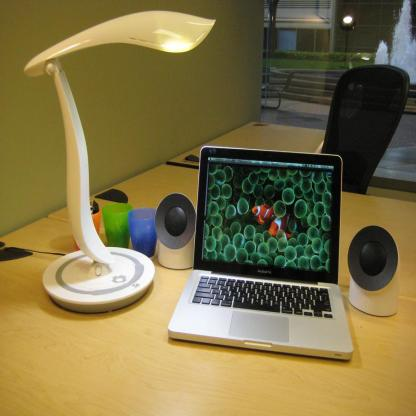board: (167, 145, 354, 363)
